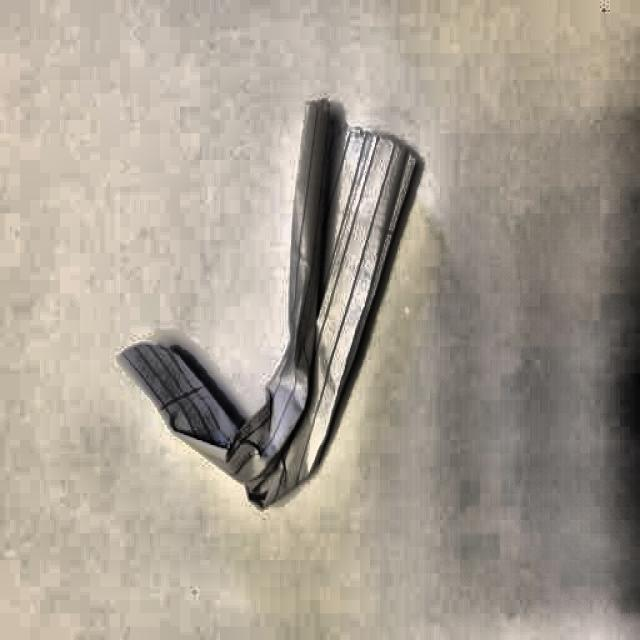paper: (112, 94, 418, 511)
